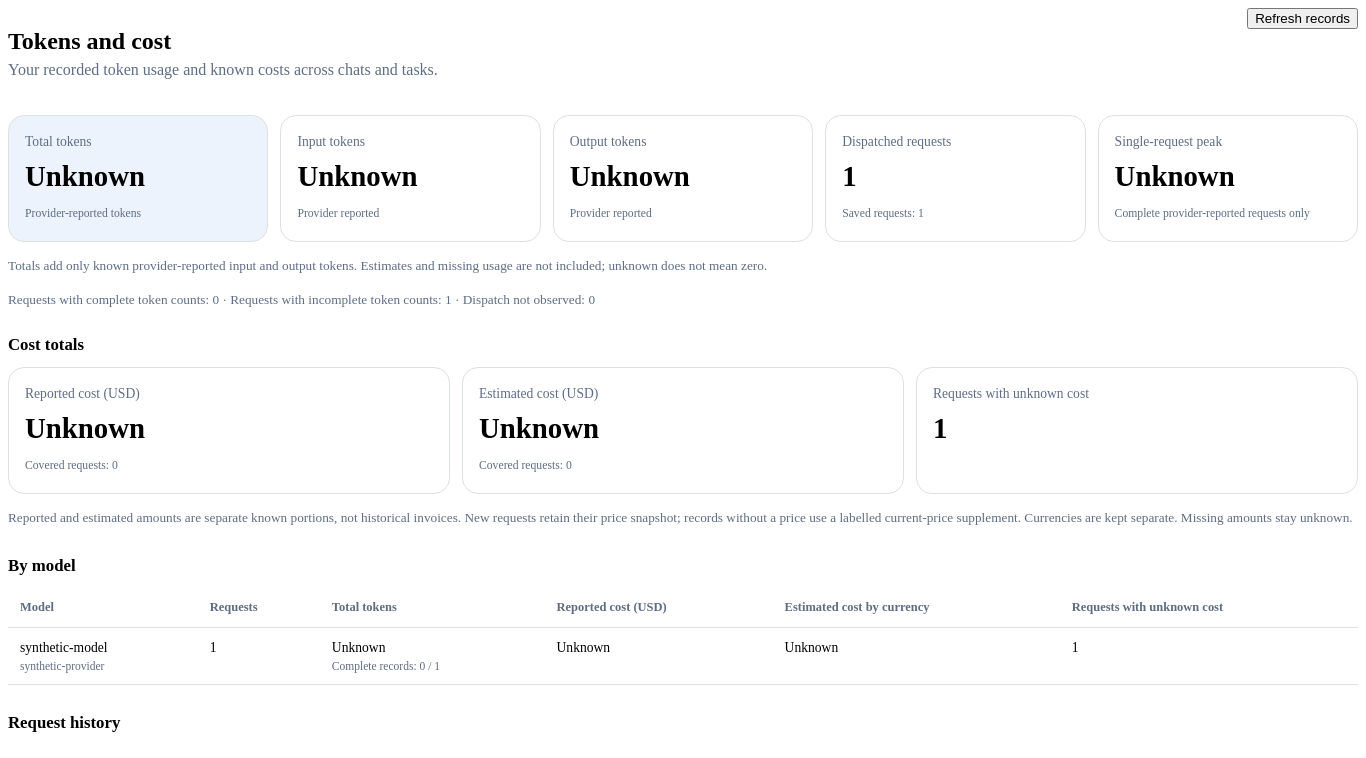
token usage records › keeps unknown usage and input estimates separate from actual totals, including an explicit reported zero
The width and height of the screenshot is (1366, 758).
Expected: the text "Unknown" below "Single-request peak" is shown, [1115,160,1235,192]
Expected: the text "unknown does not mean zero" is shown, [8,258,767,273]
Step 1. Click the button "Refresh records" → (1303,18), box [1247,8,1358,29]
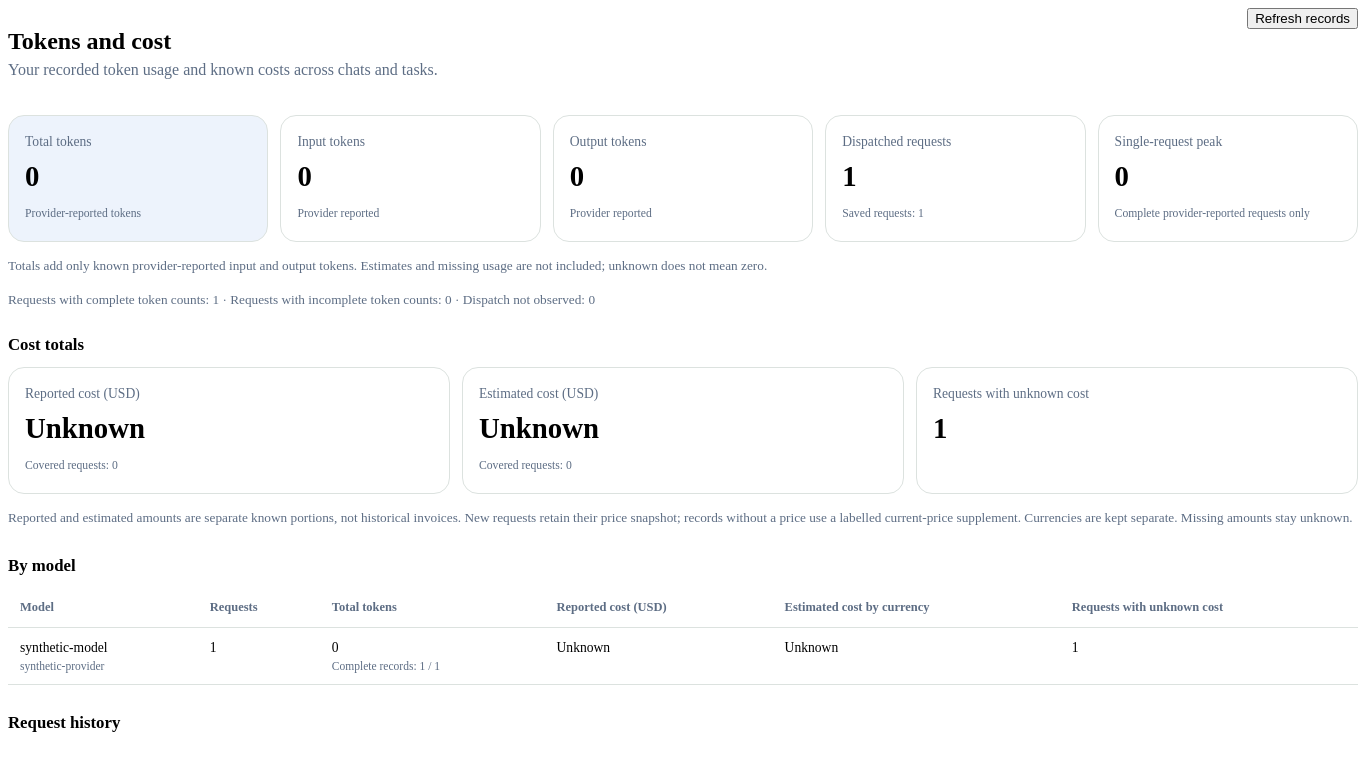
Expected: the text "0" below "Single-request peak" is shown, [1115,160,1129,192]
